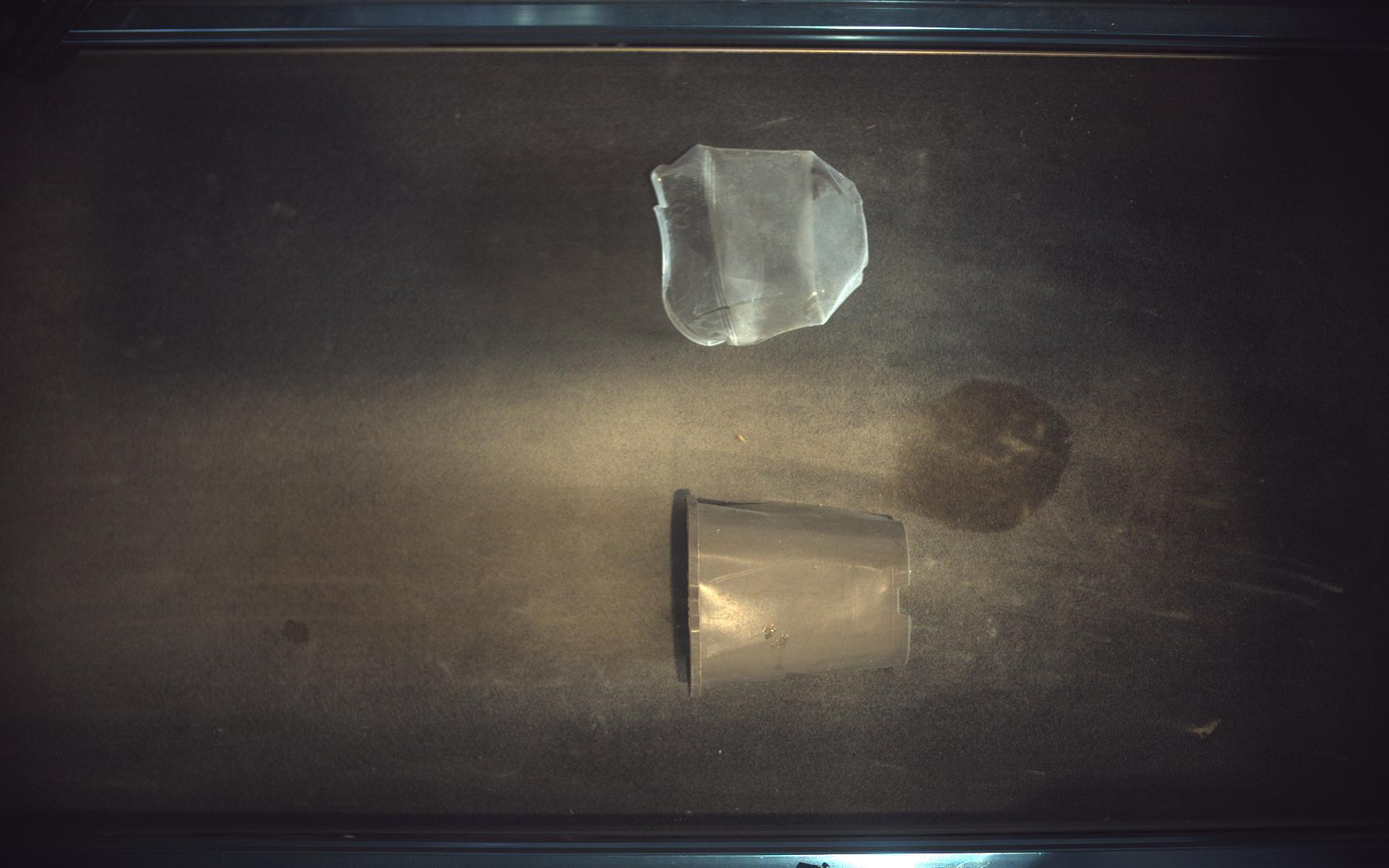general_w: (673, 490, 912, 697), (652, 144, 870, 345)
